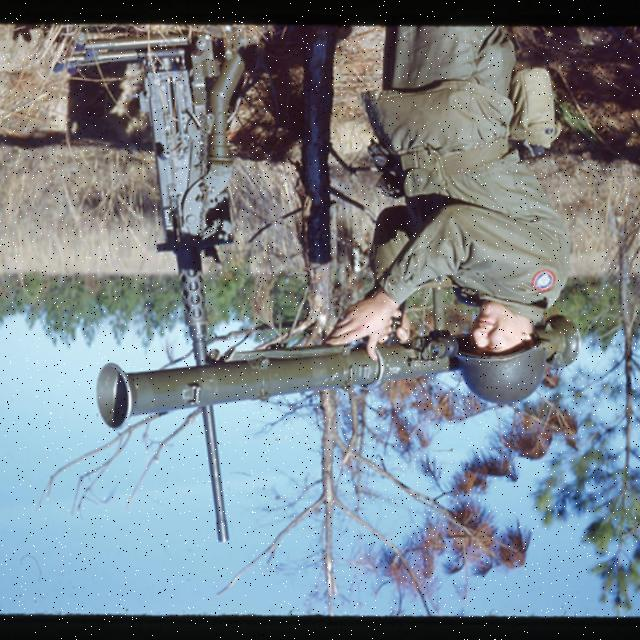bazooka: (92, 304, 590, 433)
